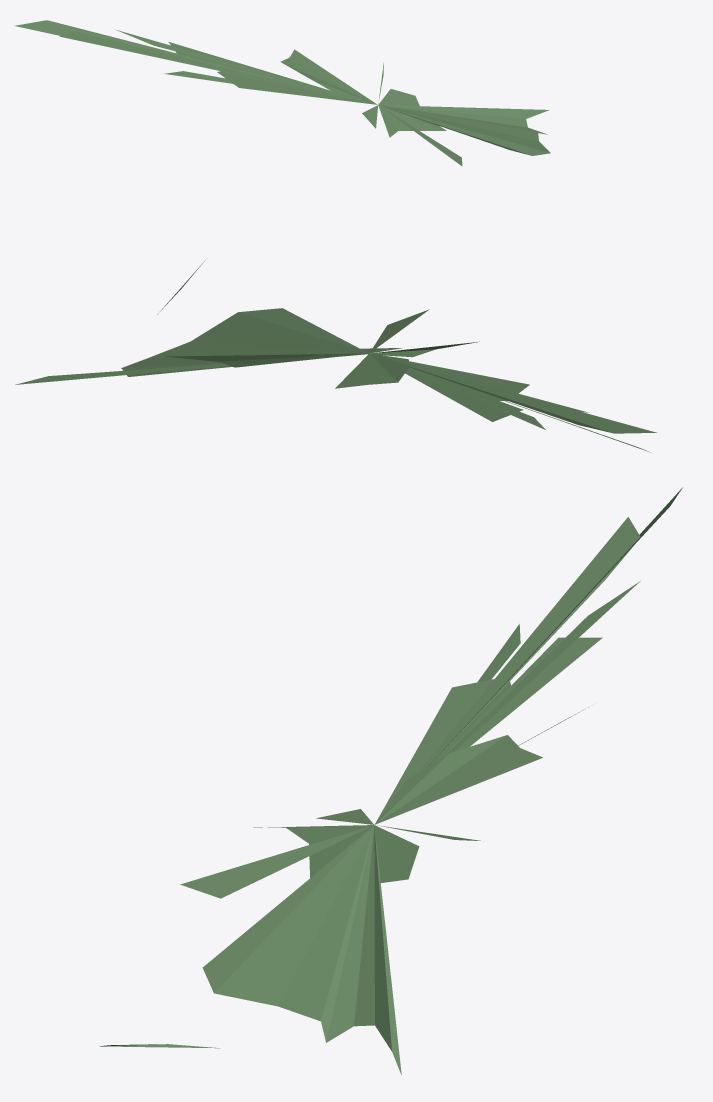
Rendered from c_1666_17816_forest.glb.
The picture shows the model from 3 angles, top to bottom: view 1: azimuth 30°, elevation 25°; view 2: azimuth 150°, elevation 25°; view 3: azimuth 270°, elevation 25°; orthographic projection. The views are drawn at different scales.
Parts seen in each view (by area): view 1: geometry_0; view 2: geometry_0; view 3: geometry_0.
Boxes of the visible parts, left/top/right/bottom form: geometry_0: left=14, top=20, right=550, bottom=166; geometry_0: left=15, top=260, right=656, bottom=452; geometry_0: left=99, top=487, right=682, bottom=1074.
Bounding box in the file's own units: 365 × 101 × 272.
